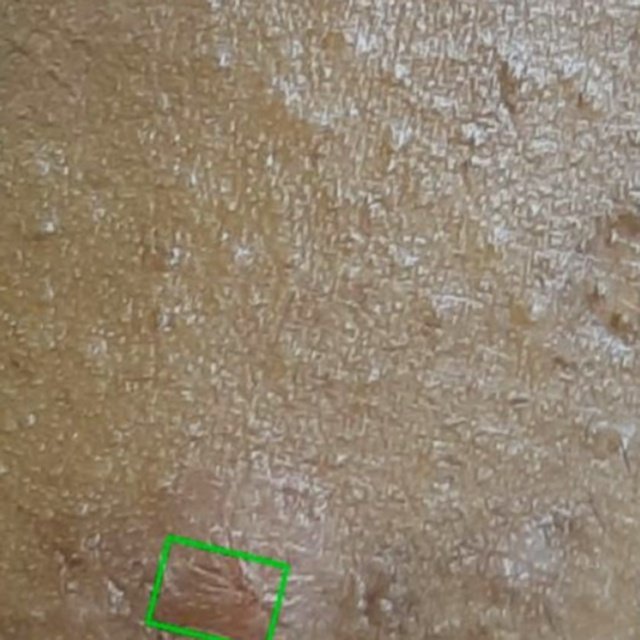Scabies: (146, 537, 286, 639)
